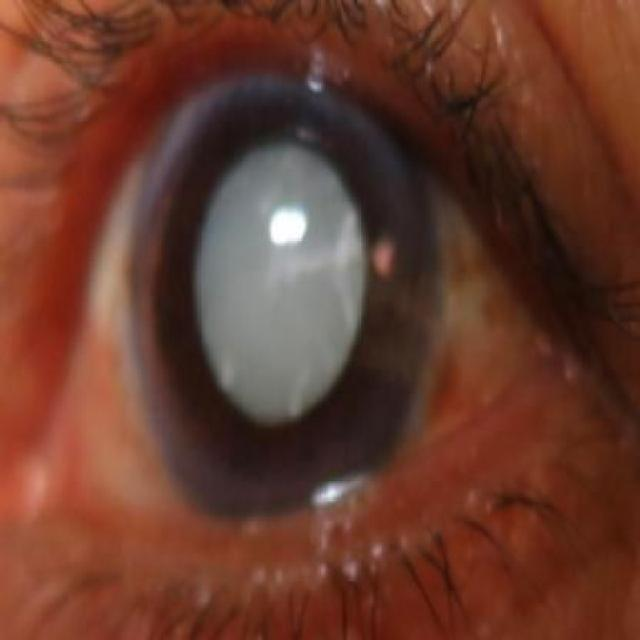Cataract: (123, 75, 430, 520)
